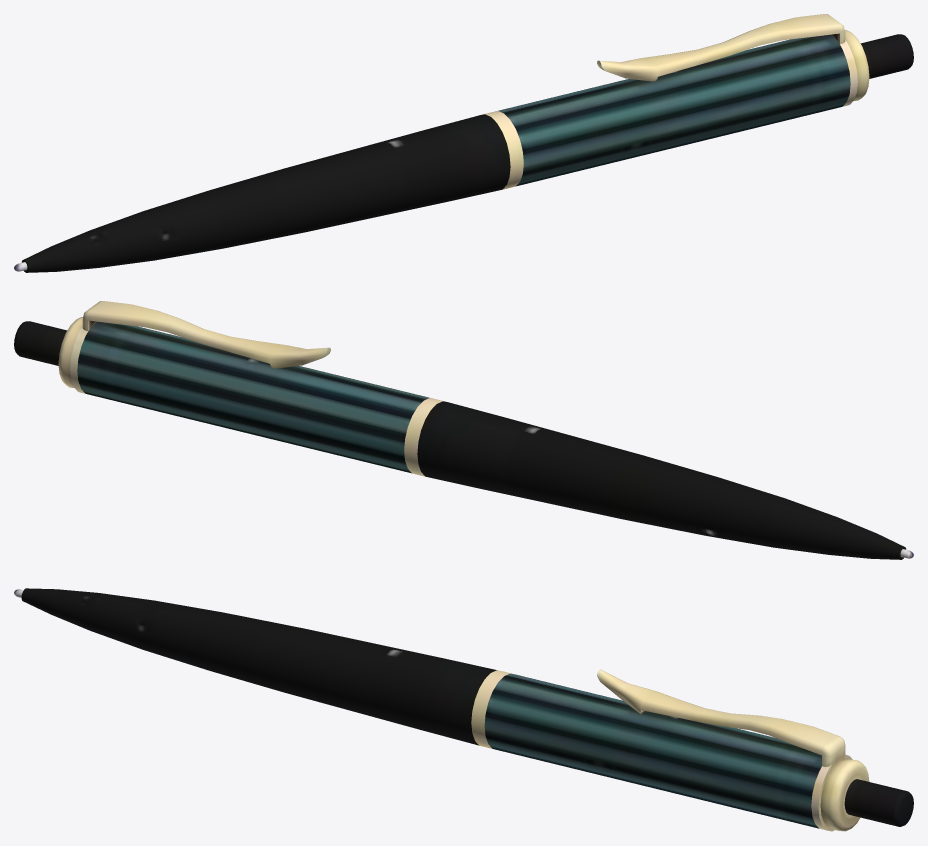
The model's file is pen.glb.
The picture shows the model from 3 angles, top to bottom: view 1: azimuth 30°, elevation 25°; view 2: azimuth 150°, elevation 25°; view 3: azimuth 330°, elevation 25°; orthographic projection.
Parts seen in each view (by area): view 1: pen; view 2: pen; view 3: pen.
Part boxes in pixels (x1=…): pen: x1=14, y1=14, x2=913, y2=272; pen: x1=14, y1=301, x2=913, y2=559; pen: x1=14, y1=588, x2=913, y2=831.
Bounding box in the file's own units: 0.131 × 0.0142 × 0.01.
1 material, 1 textured.
